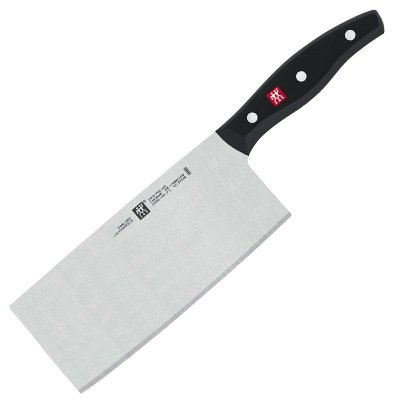knief: (7, 14, 387, 369)
